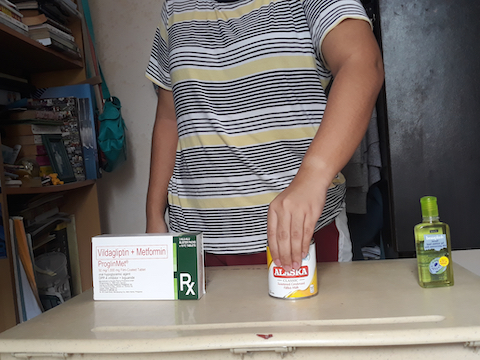bottle: (409, 193, 458, 296)
box: (88, 229, 210, 304)
can: (265, 237, 322, 302)
grab: (259, 193, 319, 270)
